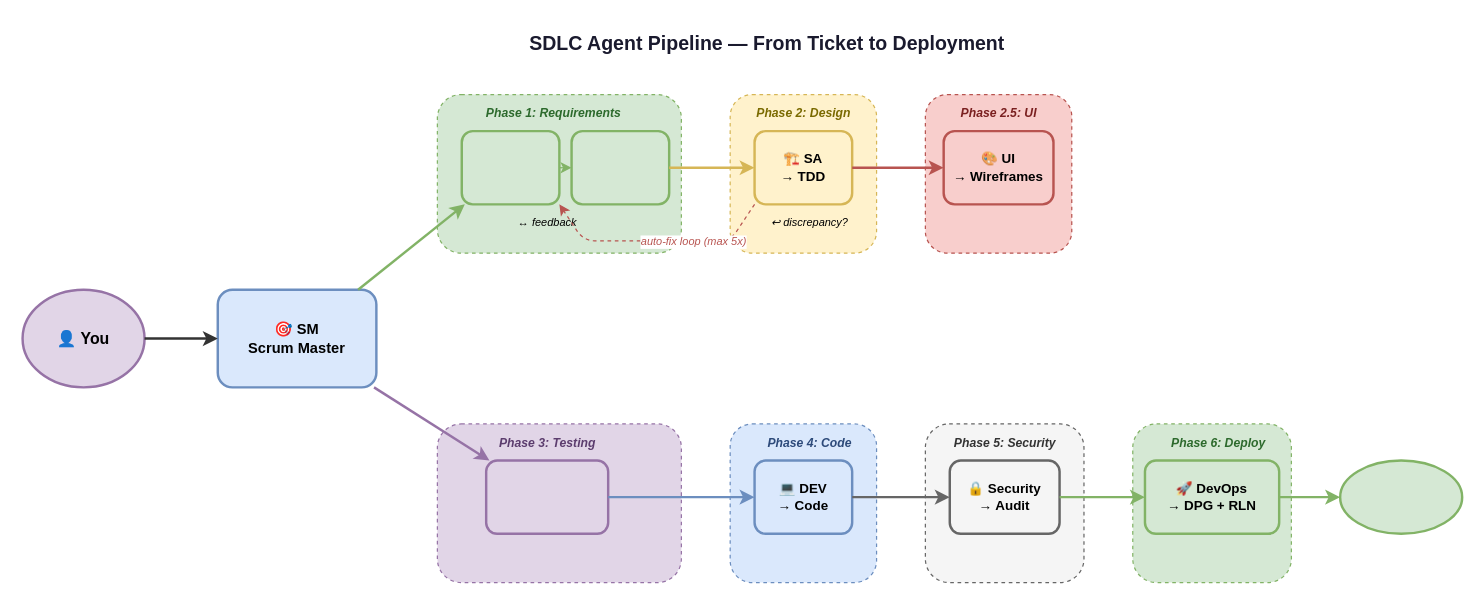
The diagram is 1484 pixels wide and 604 high, and some of its shapes have lost their labels. Here are the shapes that lost their labels. From the top down, the centre of each, then its label:
At pixel 510 167: "📋 BA → BRD".
At pixel 620 167: "🔧 TA → FSD".
At pixel 546 496: "🧪 QA → STP + STC".
At pixel 1400 496: "✅ Done Deployed!".
